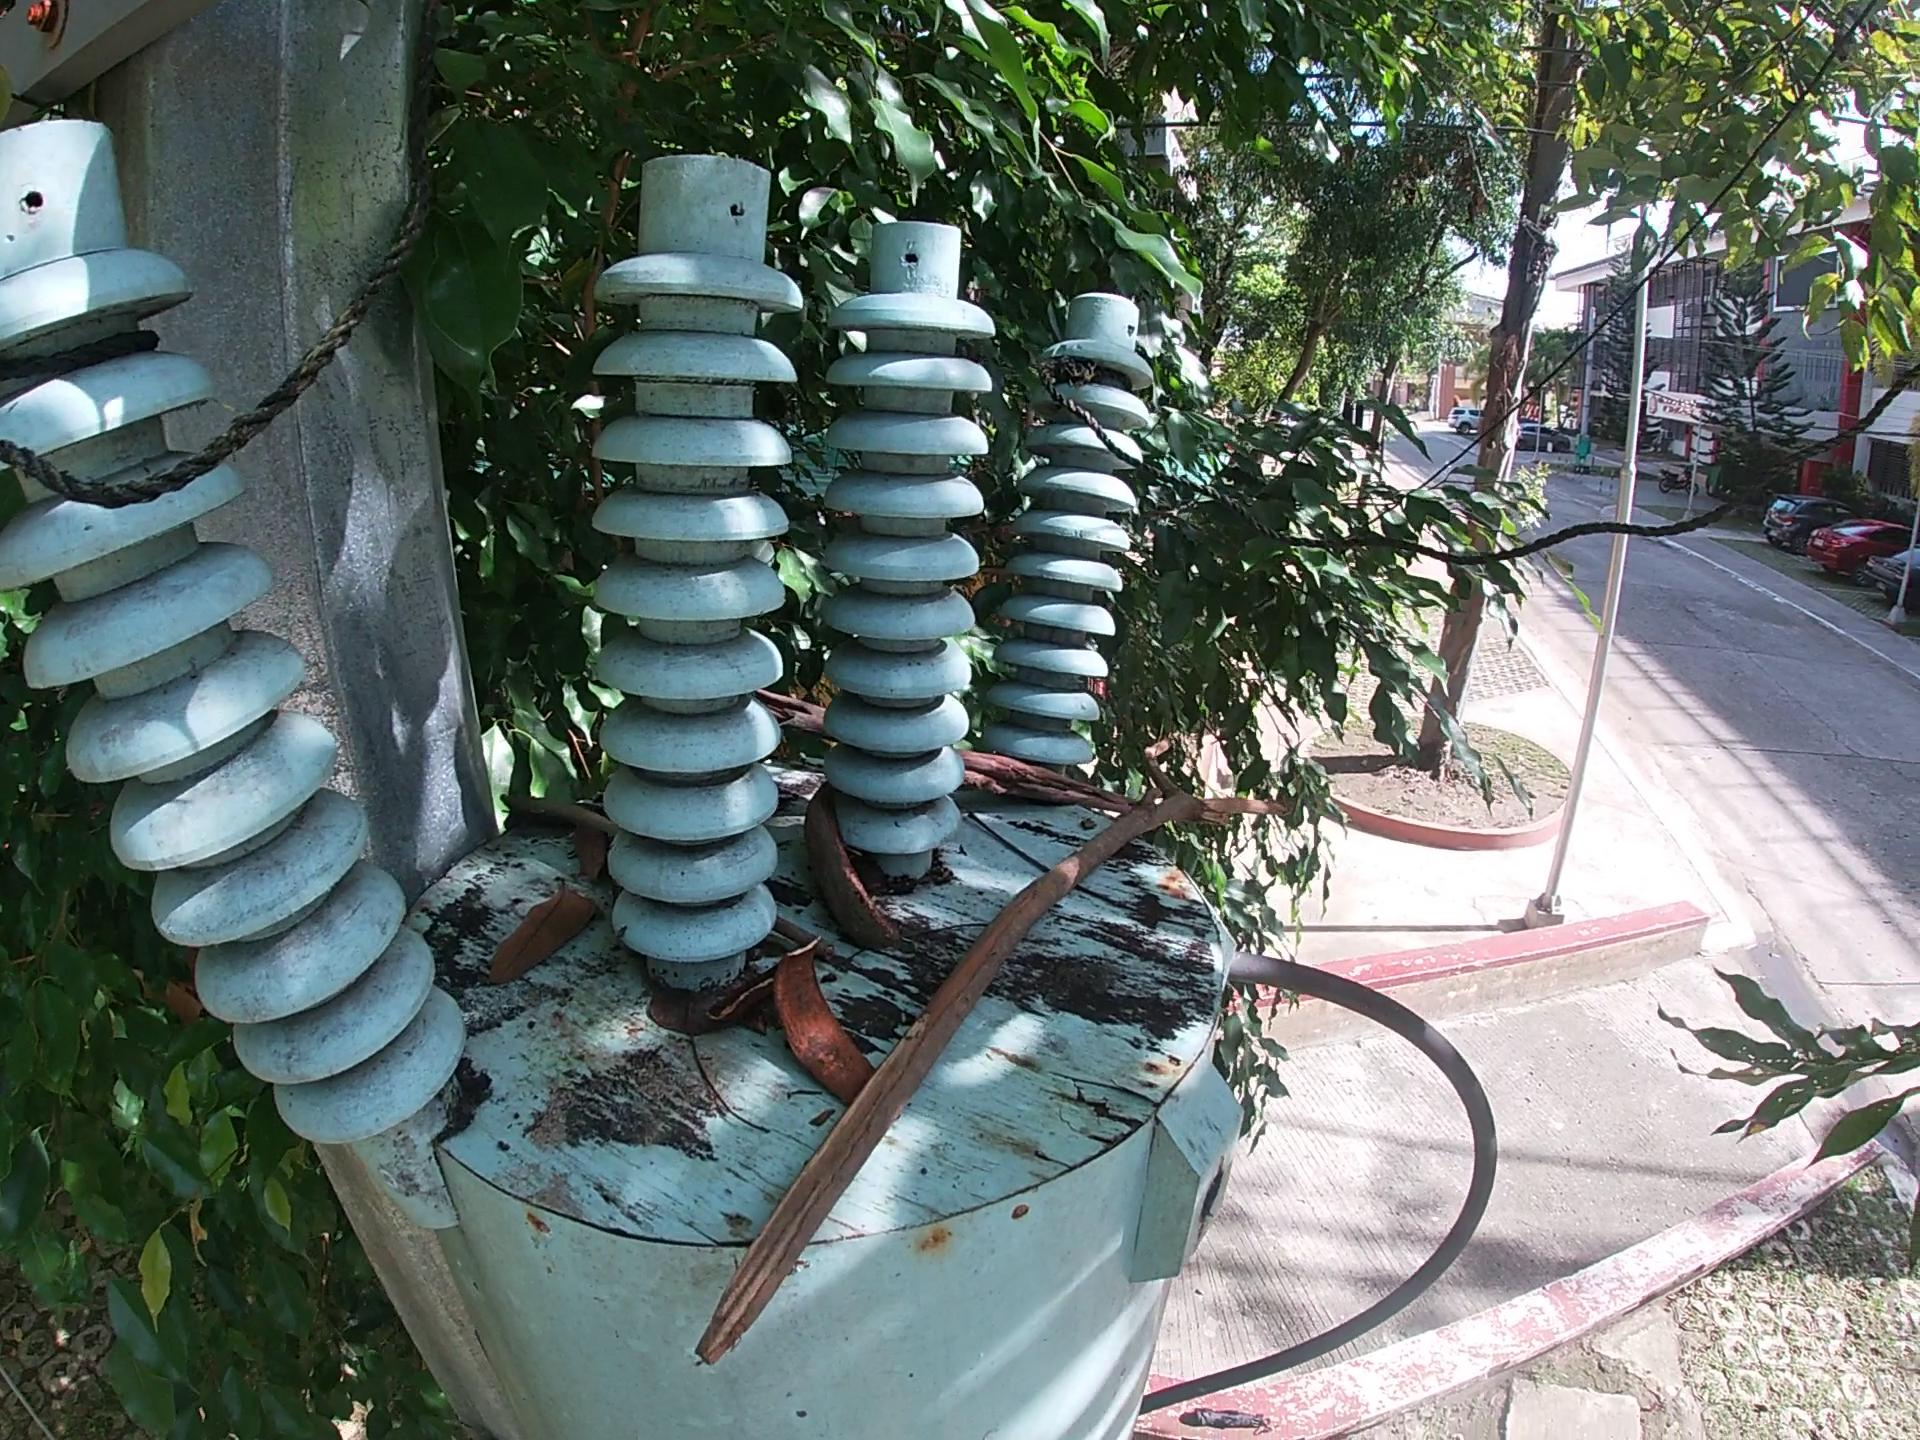leaf: (479, 874, 603, 988), (643, 982, 726, 1041), (565, 817, 615, 883)
mahogany fruit: (763, 932, 878, 1110), (800, 781, 901, 948)
tree branch: (683, 728, 1296, 1375), (757, 687, 1154, 817), (487, 794, 621, 836), (774, 917, 839, 961)
